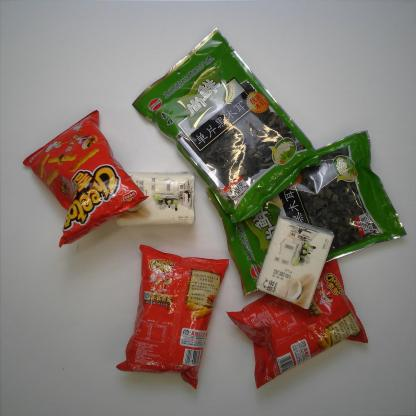Dried Food: (129, 24, 323, 226), (206, 128, 408, 297)
Puffed Food: (224, 258, 371, 392), (20, 109, 152, 252), (112, 241, 230, 391)
Tissue: (254, 213, 338, 310), (114, 169, 197, 230)
